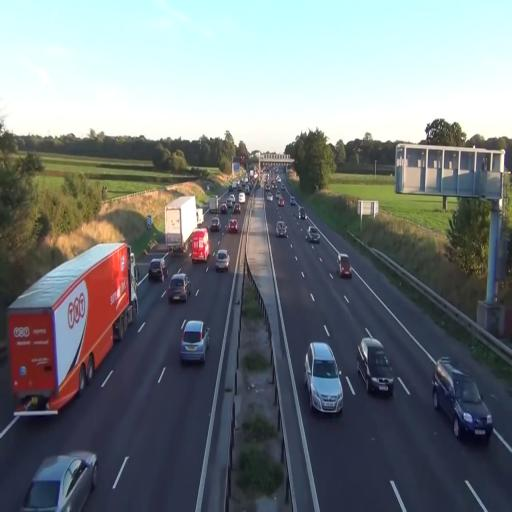vehicle: (7, 238, 138, 416), (432, 356, 494, 442), (23, 452, 98, 510), (304, 341, 344, 413), (452, 377, 493, 442), (356, 337, 394, 396), (164, 195, 197, 254), (180, 319, 210, 365), (167, 273, 190, 305), (190, 228, 210, 264), (148, 259, 165, 282), (214, 248, 230, 272), (204, 211, 220, 234), (337, 254, 352, 278), (306, 225, 320, 244), (308, 228, 321, 246), (276, 220, 287, 237), (228, 216, 238, 234)
